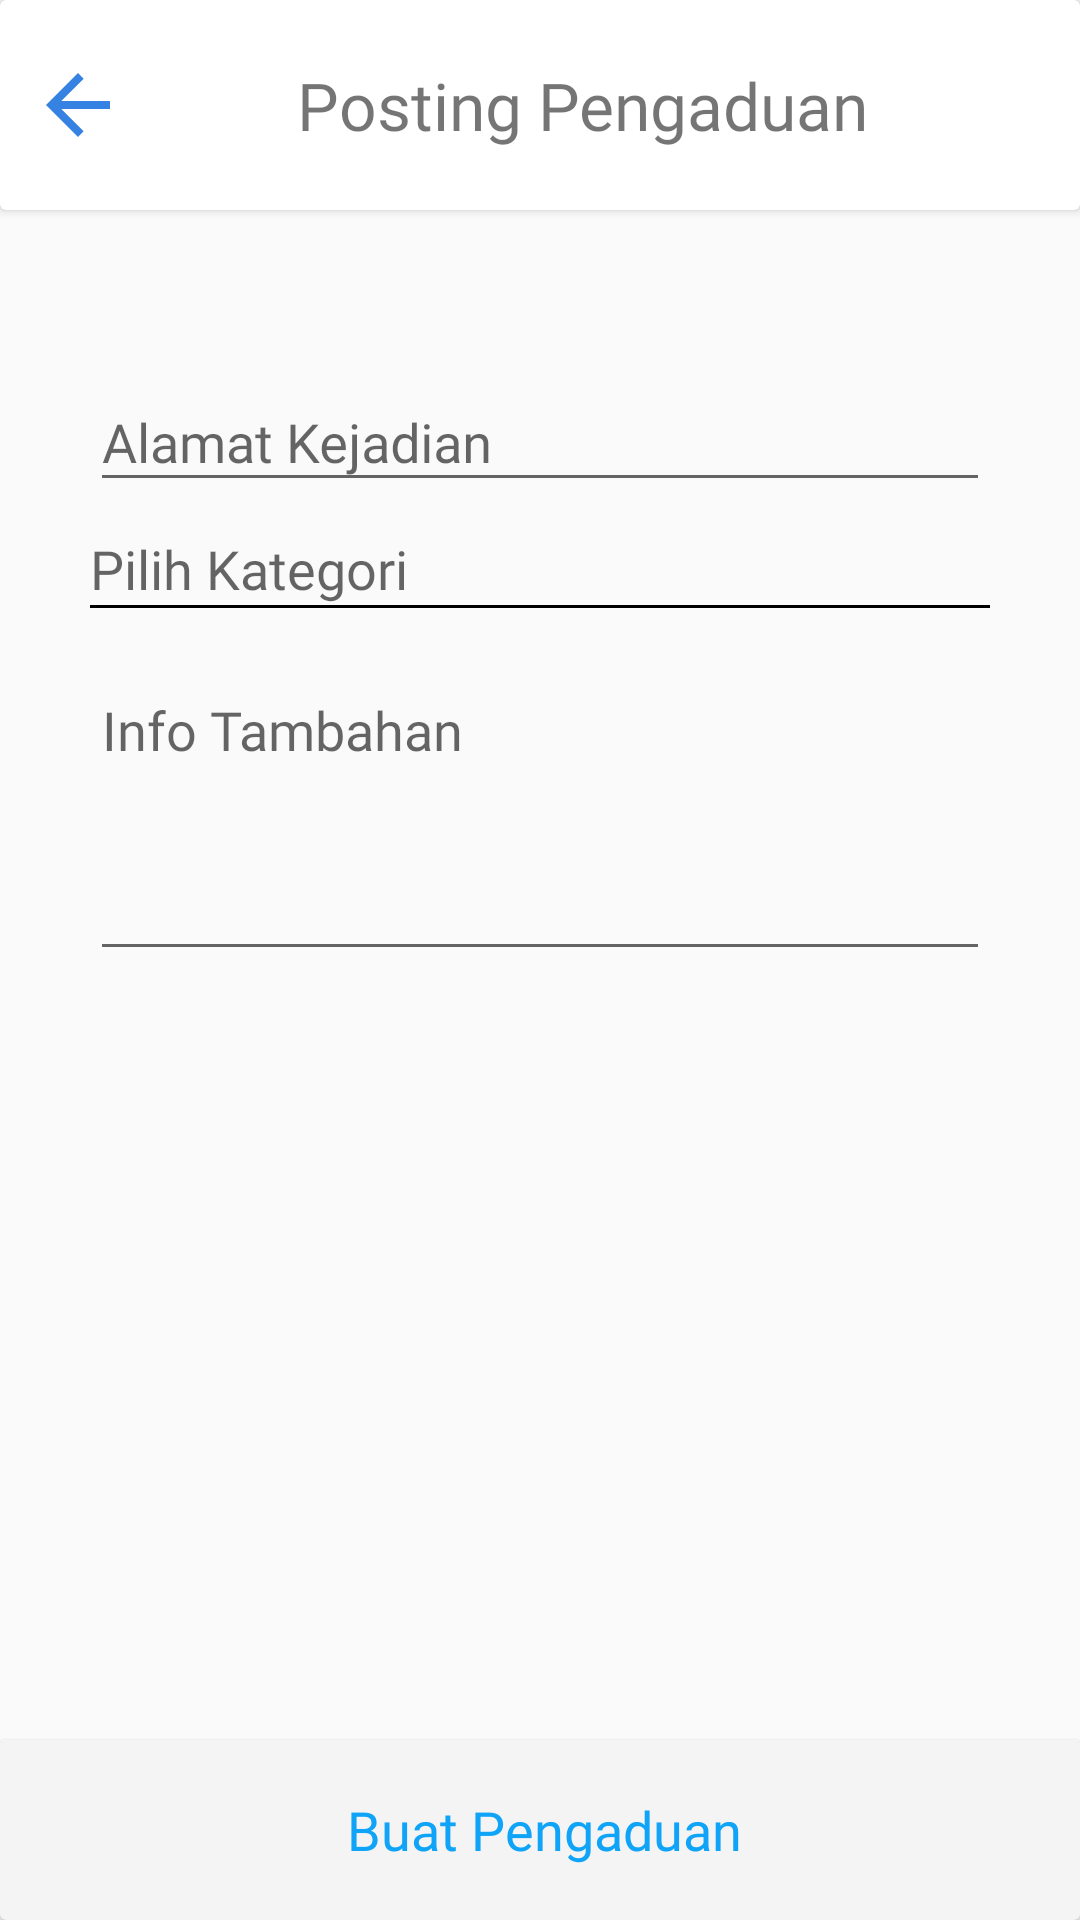

Icon bounding boxes for this 1080px x 1920px phone screenshot, format rect(x1, y1, x2, y2):
arrow back: rect(46, 73, 110, 137)
